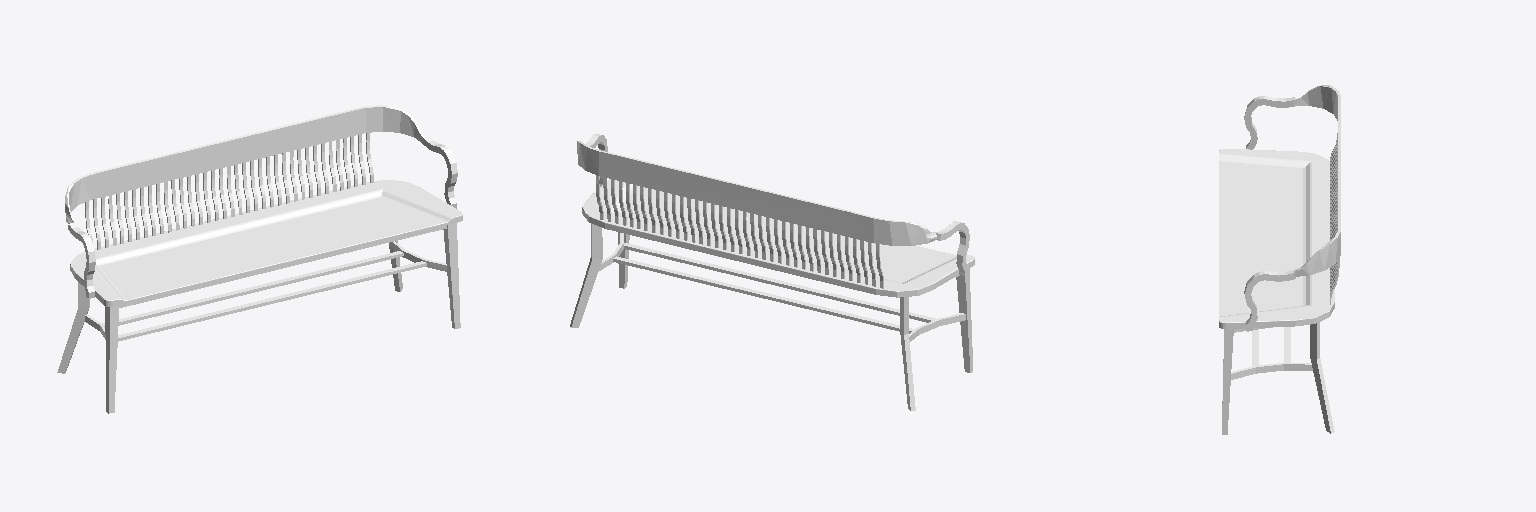
File: soaf3.obj
3 renders of one model, left to right at view 1: azimuth 30°, elevation 25°; view 2: azimuth 150°, elevation 25°; view 3: azimuth 270°, elevation 25°, orthographic.
Size of the model in its own units: 65.98 by 32 by 19.02.